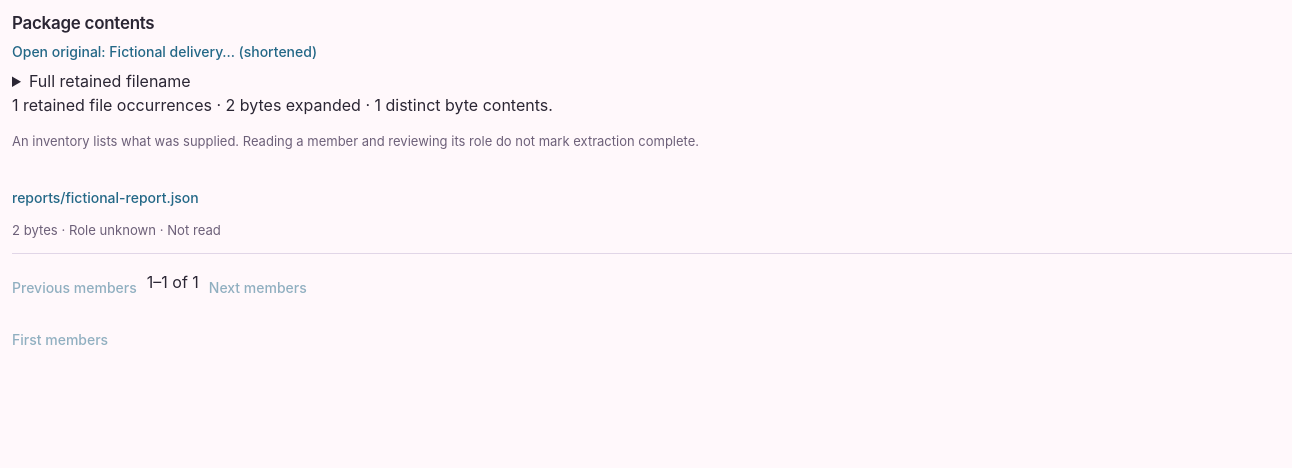
it: labels a shortened original name and loads its exact pinned fragment on demand
The width and height of the screenshot is (1292, 468).
Click the heading "Full retained filename": x=110, y=81 [29,71,191,91]
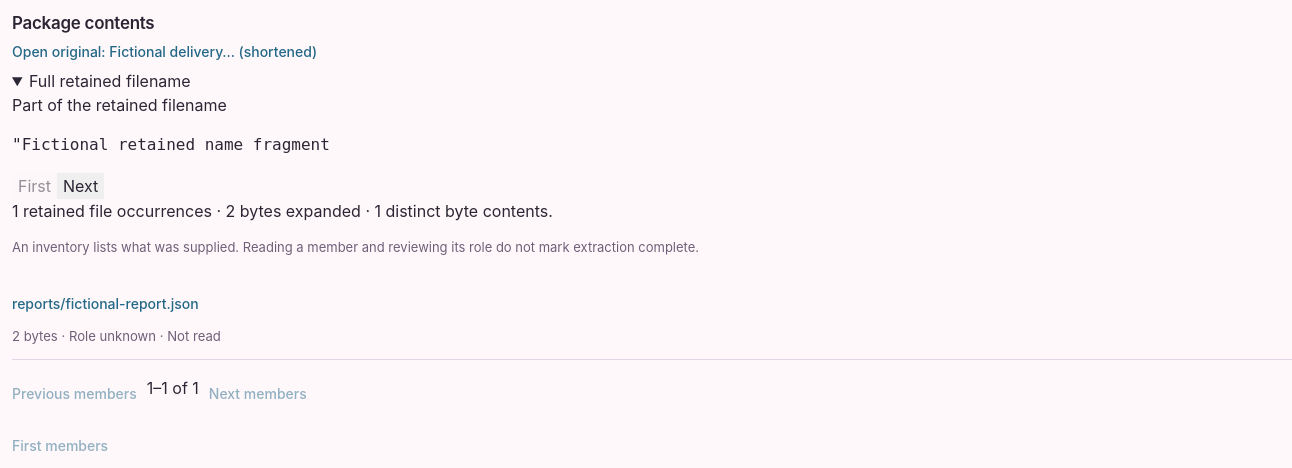
Expected: the text "\"Fictional retained name fragment" is shown, [12,135,330,154]
Expected: the text "Part of the retained filename" is shown, [12,95,227,115]
